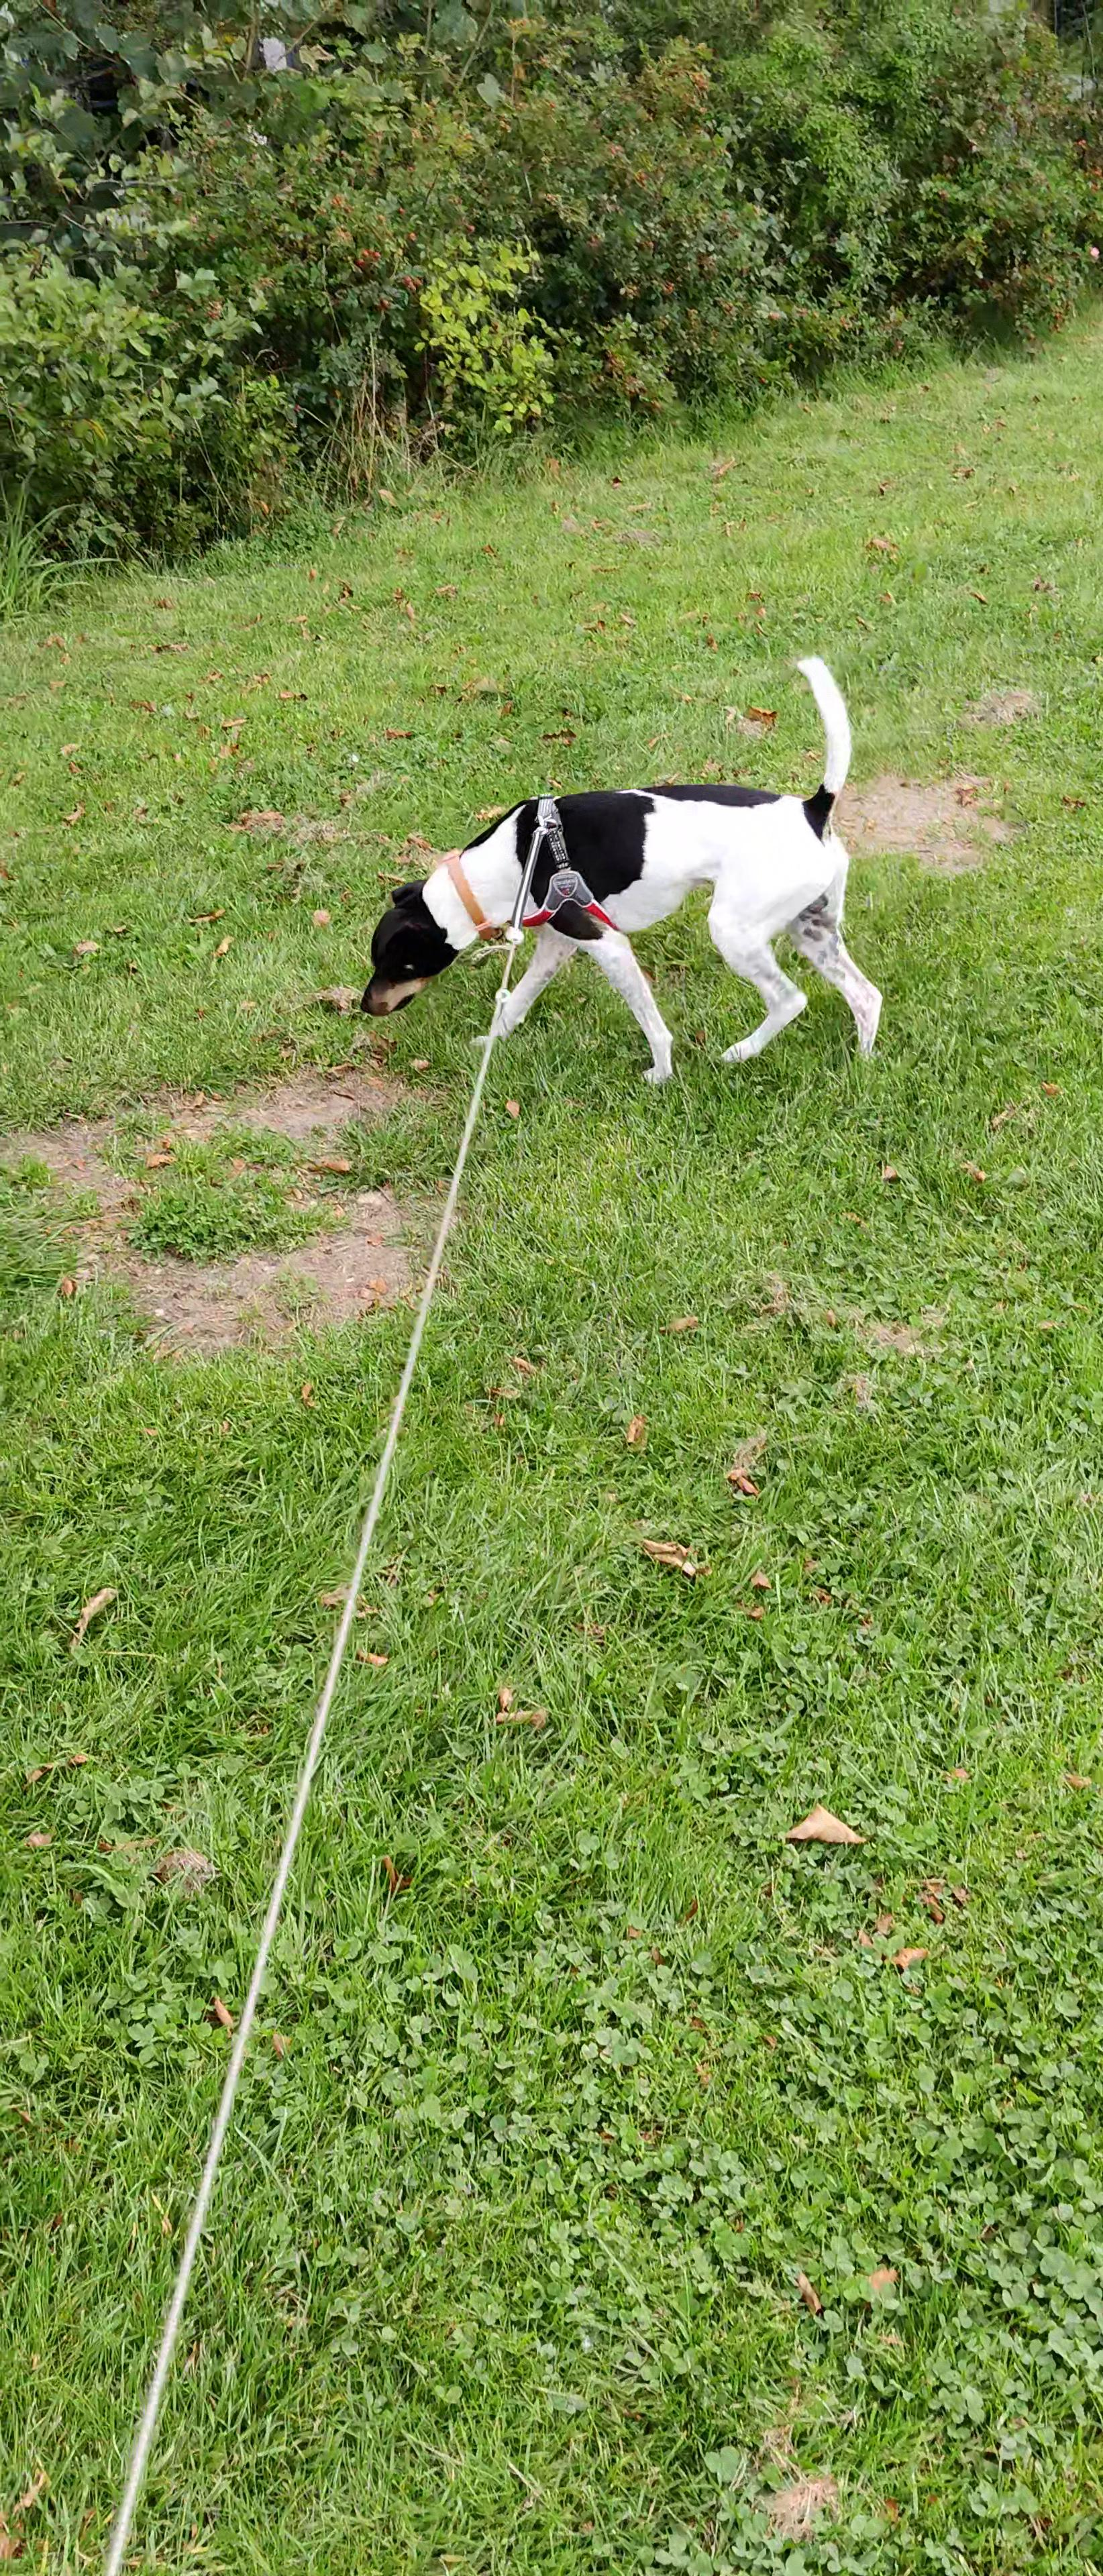Dog: (353, 647, 896, 1084)
